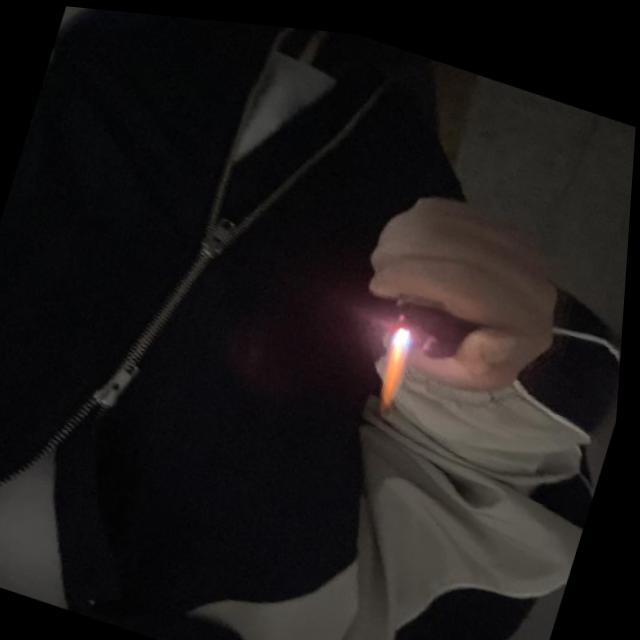Fire: (369, 313, 424, 412)
